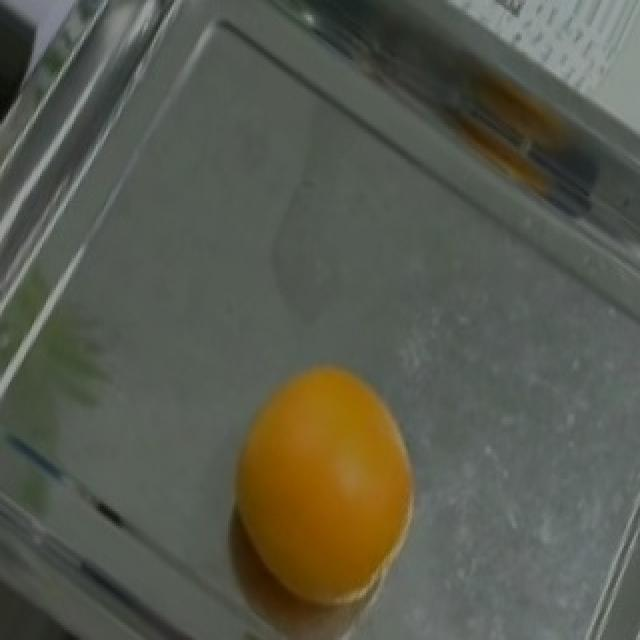Fruit: (208, 357, 436, 638)
